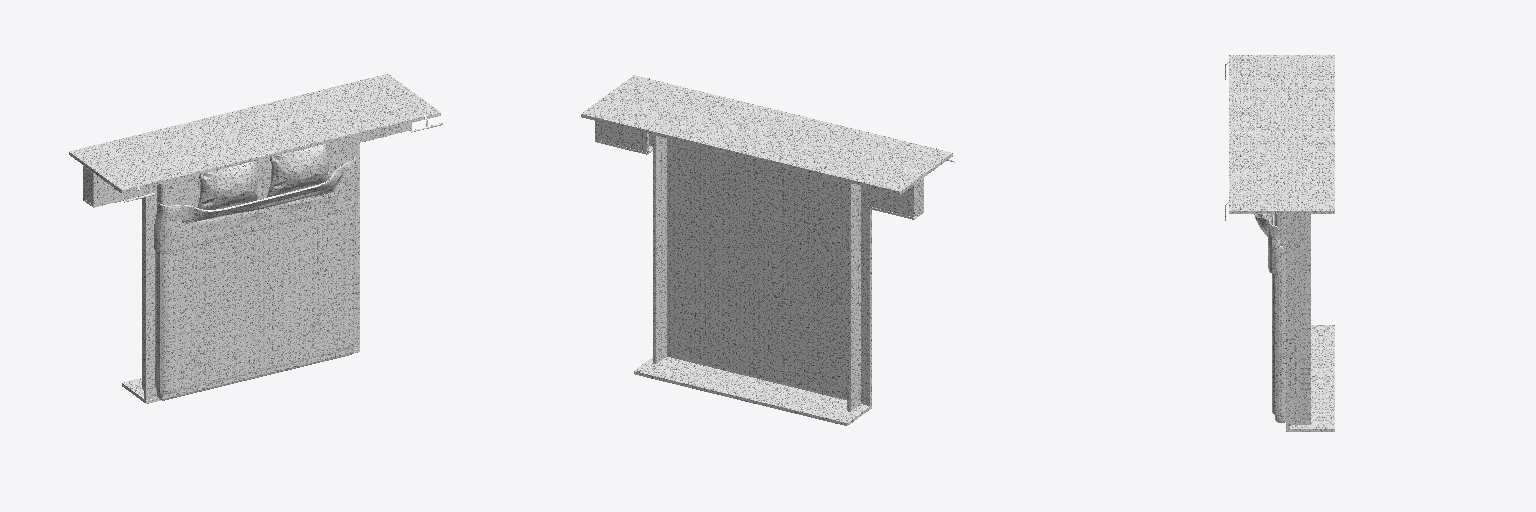
3 renders of one model, left to right at view 1: azimuth 30°, elevation 25°; view 2: azimuth 150°, elevation 25°; view 3: azimuth 270°, elevation 25°, orthographic.
Parts seen in each view (by area): view 1: Object01; view 2: Object01; view 3: Object01.
Part boxes in pixels (x1,y1,x2,y2): Object01: (69, 74, 442, 403); Object01: (581, 75, 954, 425); Object01: (1225, 55, 1334, 431).
Bounding box in the file's own units: 2988 × 2223 × 893.
1 materials, 1 textured.